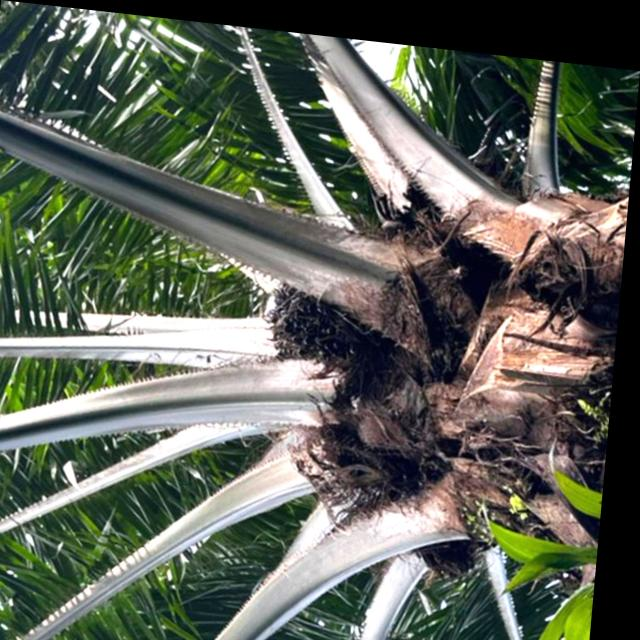unripe: (258, 271, 396, 379)
